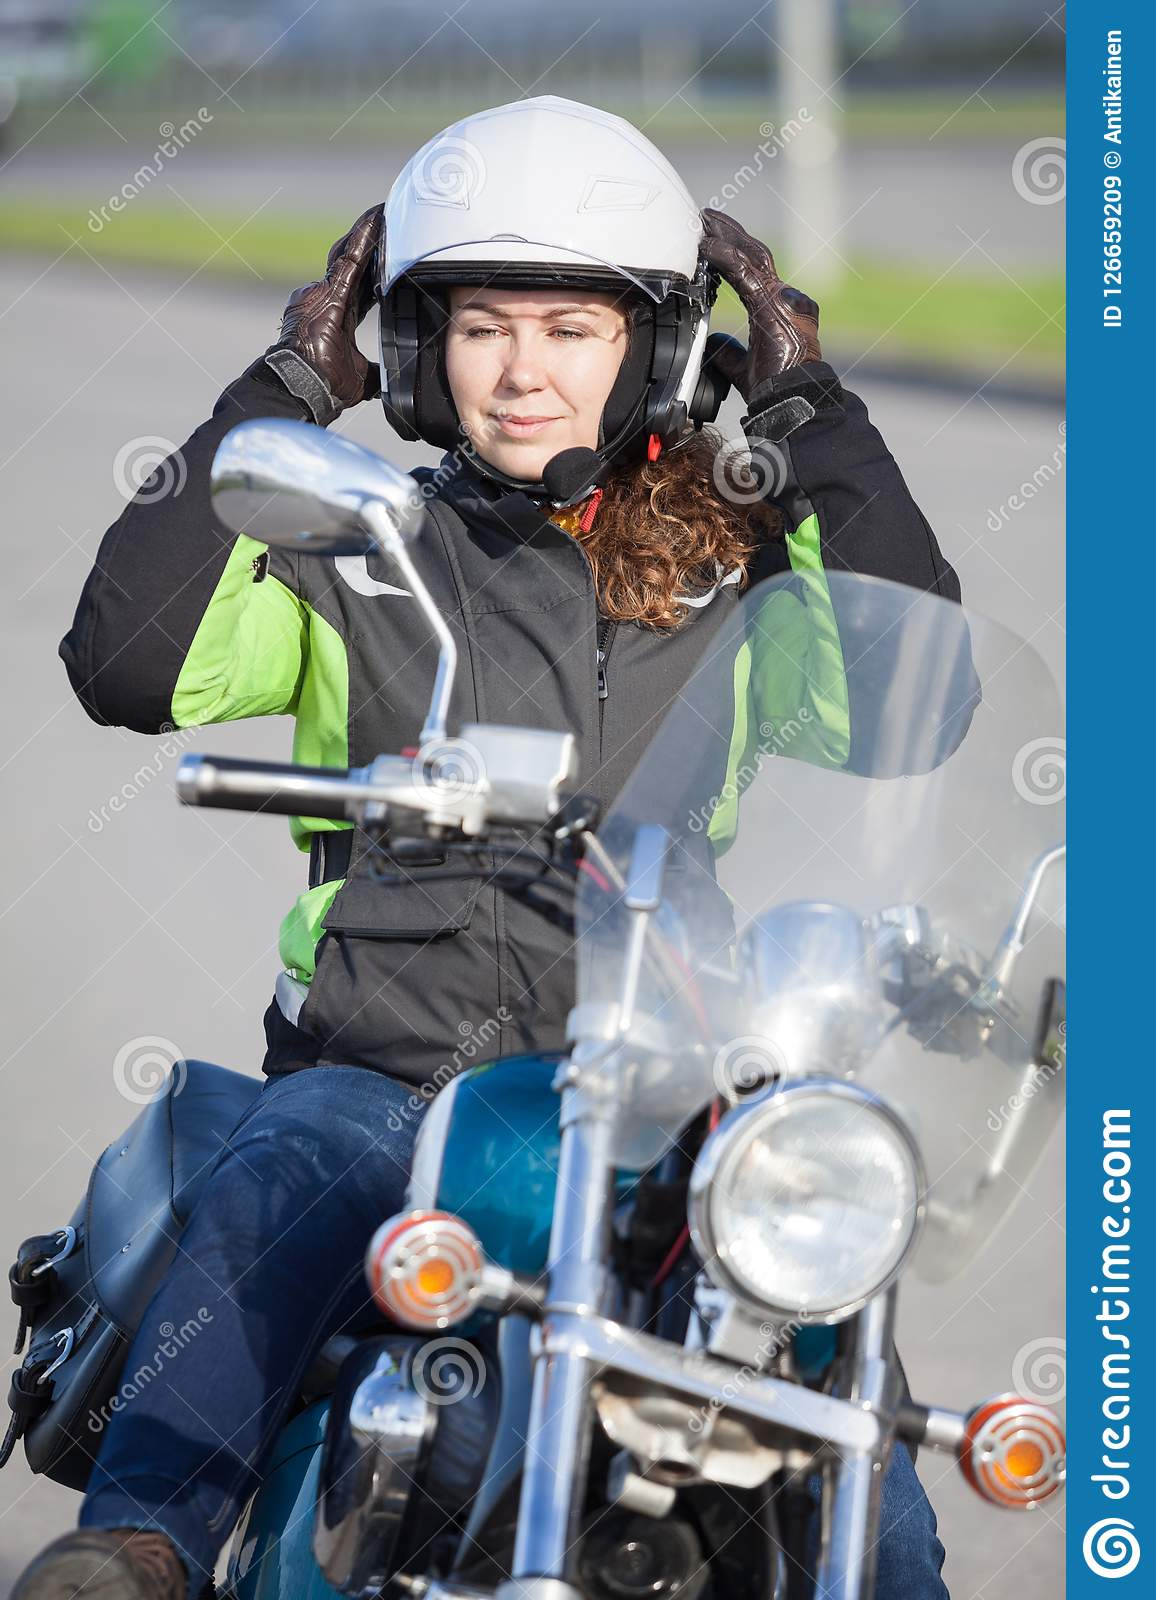helmet: (384, 108, 703, 439)
